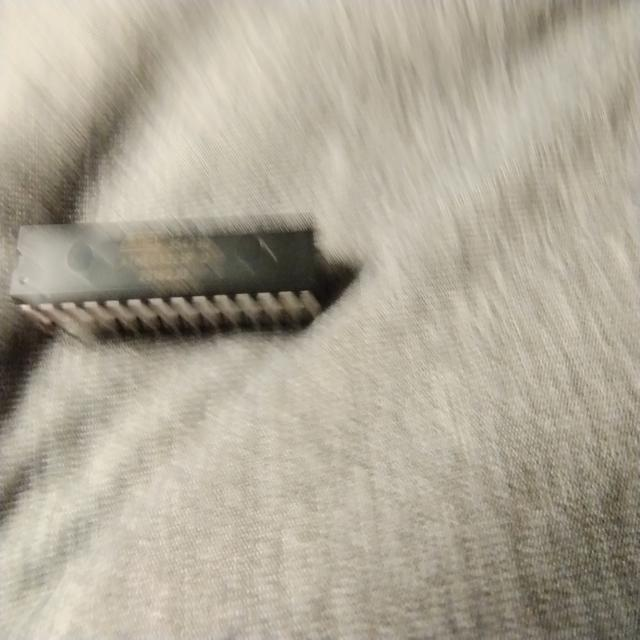atmega: (9, 214, 334, 340)
